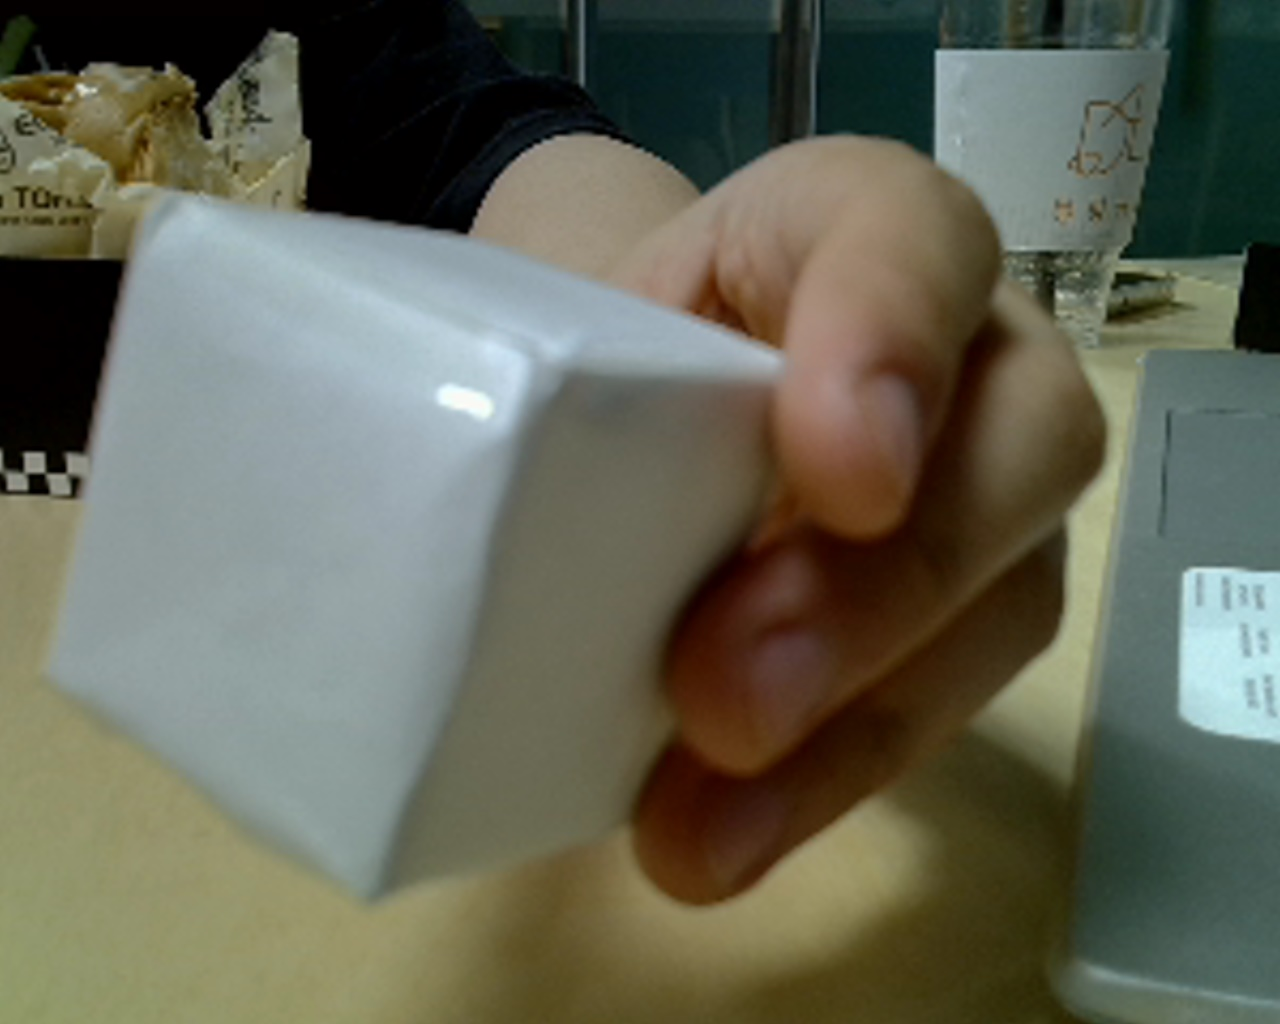whitebox: (47, 146, 885, 930)
